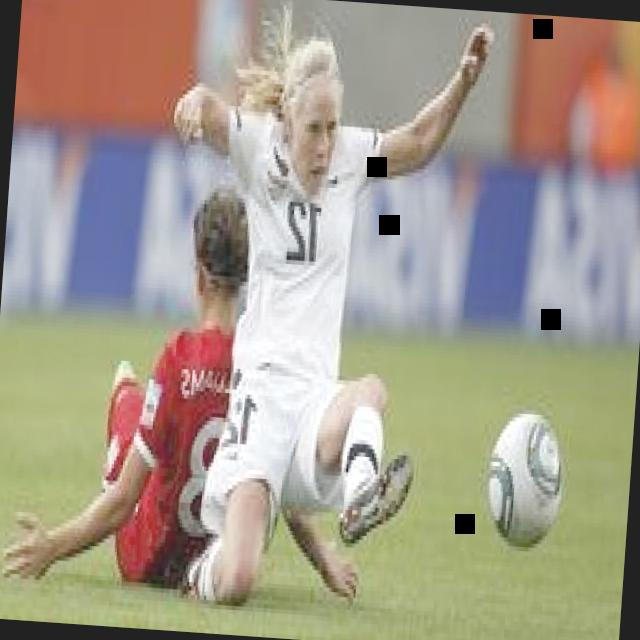Fall-Detected: (0, 145, 425, 613)
